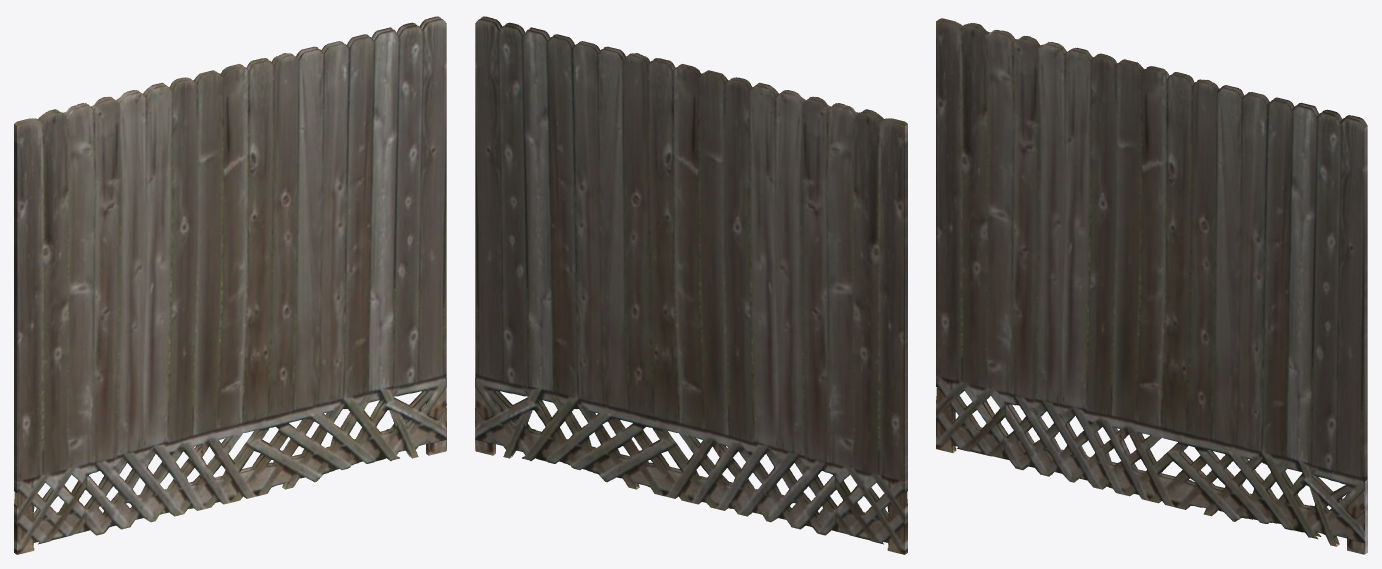
Rendered from Fence.FBX.
3 views of the same model, side by side, from view 1: azimuth 30°, elevation 25°; view 2: azimuth 150°, elevation 25°; view 3: azimuth 330°, elevation 25° (orthographic).
Visible parts, largest first — view 1: Plane002; view 2: Plane002; view 3: Plane002.
Boxes of the visible parts, x1,y1,x2,y2 form: Plane002: (14,16,446,554); Plane002: (475,16,907,554); Plane002: (936,18,1367,554).
Size of the model in its own units: 121 by 117 by 1.49.
Materials: 1 (1 with a texture image).
